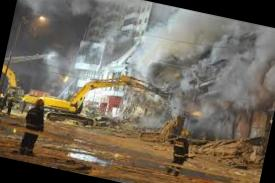Smoke: (108, 0, 275, 142)
